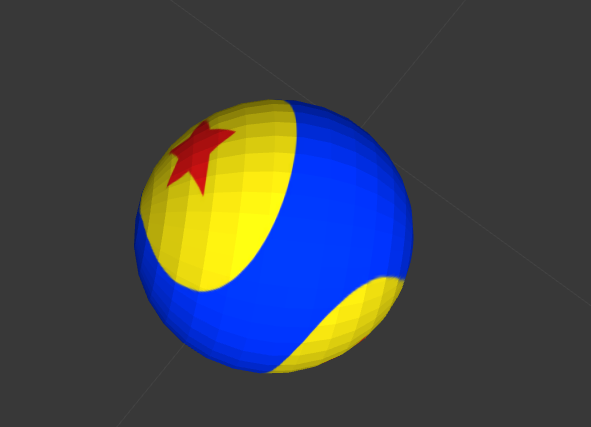toy story ball: (134, 100, 414, 373)
